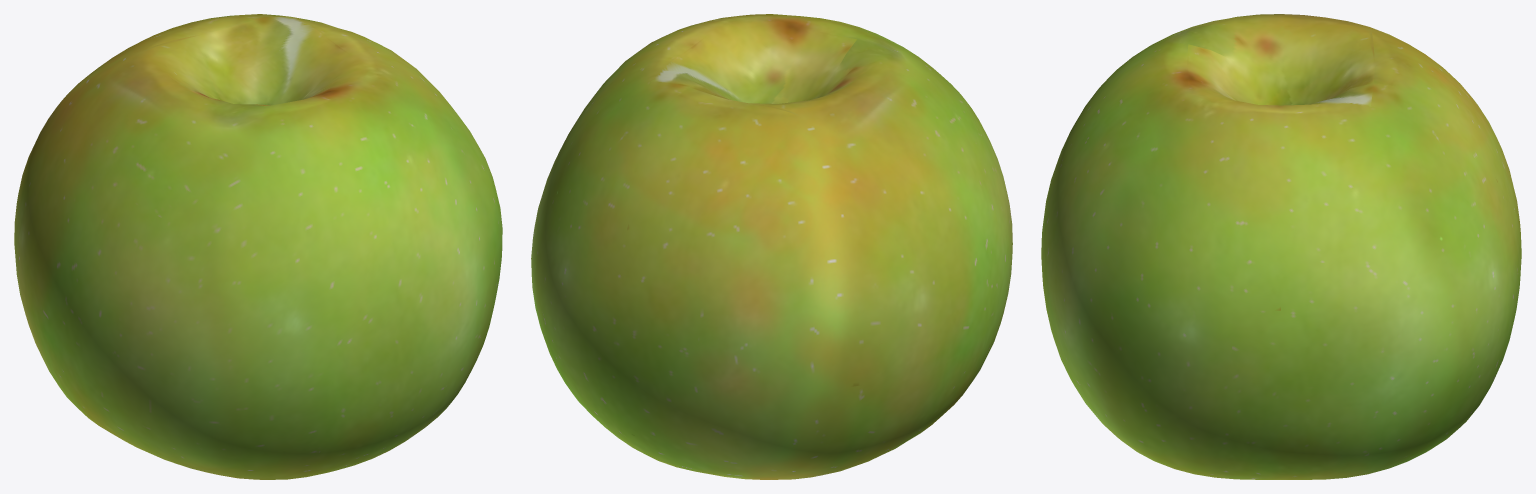
File: healthy-fruitlet.gltf
3 renders of one model, left to right at view 1: azimuth 30°, elevation 25°; view 2: azimuth 150°, elevation 25°; view 3: azimuth 270°, elevation 25°, orthographic.
Parts seen in each view (by area): view 1: Fruit; view 2: Fruit; view 3: Fruit.
Part boxes in pixels (box(x1,y1,x2,y2)): Fruit: box(14, 14, 502, 479); Fruit: box(531, 14, 1012, 479); Fruit: box(1041, 14, 1521, 479).
Bounding box in the file's own units: 0.0916 × 0.0789 × 0.0915.
1 material, 1 textured.
